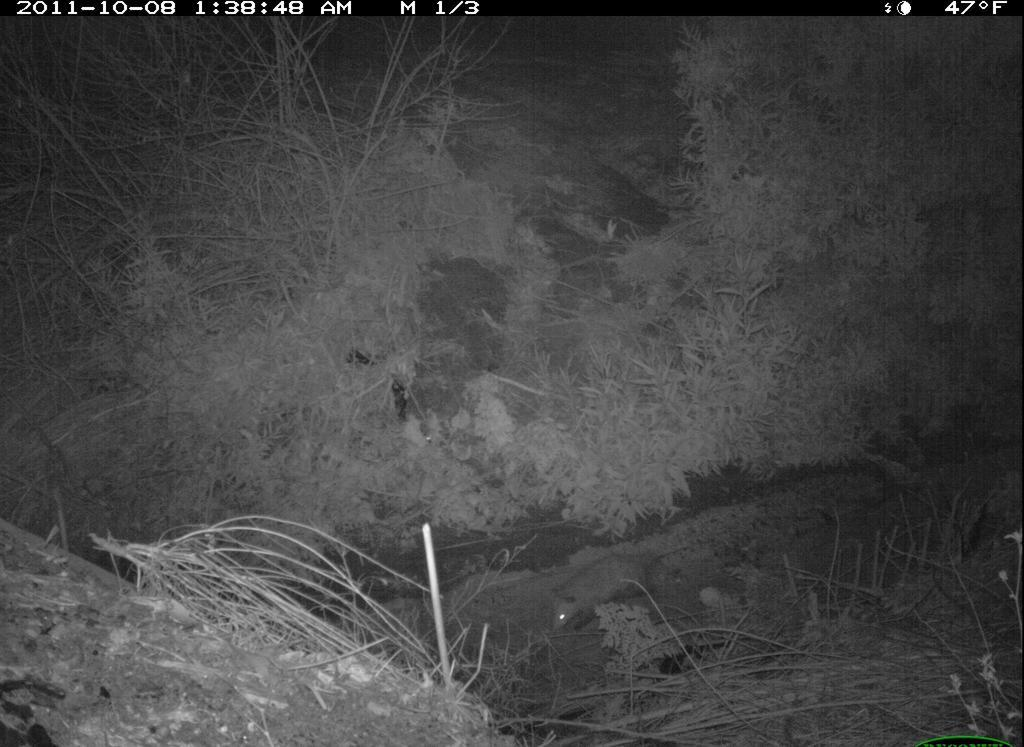opossum: (538, 538, 699, 647)
